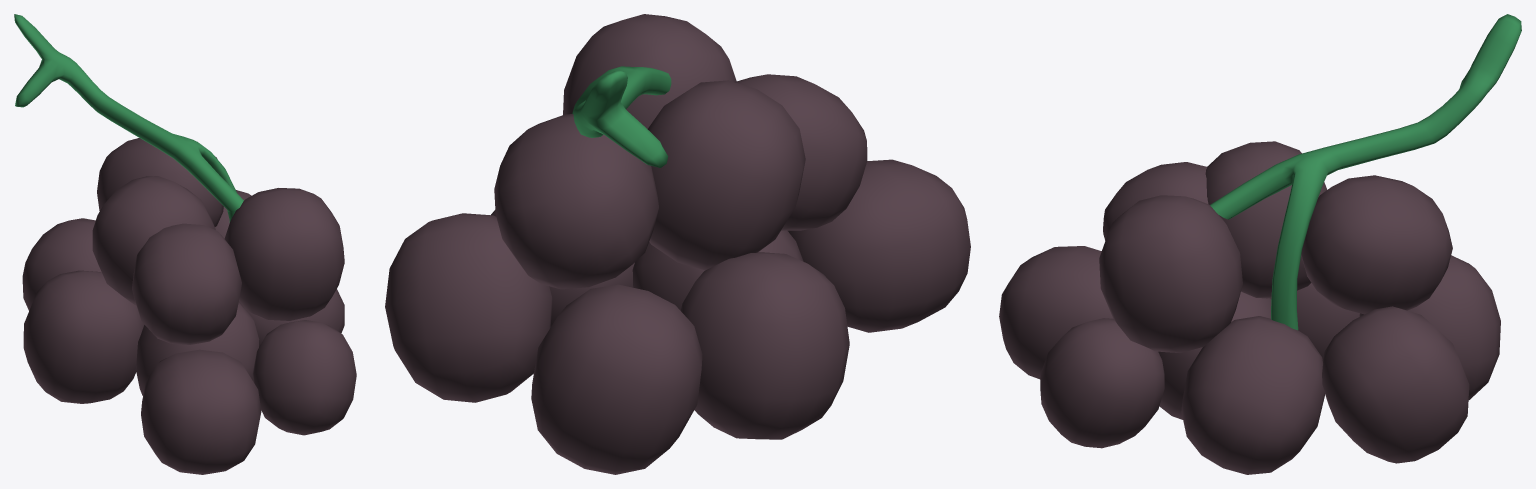
The model's file is Grape_05.dae.
3 views of the same model, side by side, from view 1: azimuth 30°, elevation 25°; view 2: azimuth 150°, elevation 25°; view 3: azimuth 270°, elevation 25° (orthographic). The views are drawn at different scales.
Visible parts, largest first — view 1: Grape_05_LOD0; view 2: Grape_05_LOD0; view 3: Grape_05_LOD0.
Part boxes in pixels (x1,y1,x2,y2): Grape_05_LOD0: (14, 14, 356, 474); Grape_05_LOD0: (385, 14, 970, 474); Grape_05_LOD0: (999, 14, 1521, 474).
Size of what is drawn, in the model's own units: 3.54 by 4.92 by 3.91.
